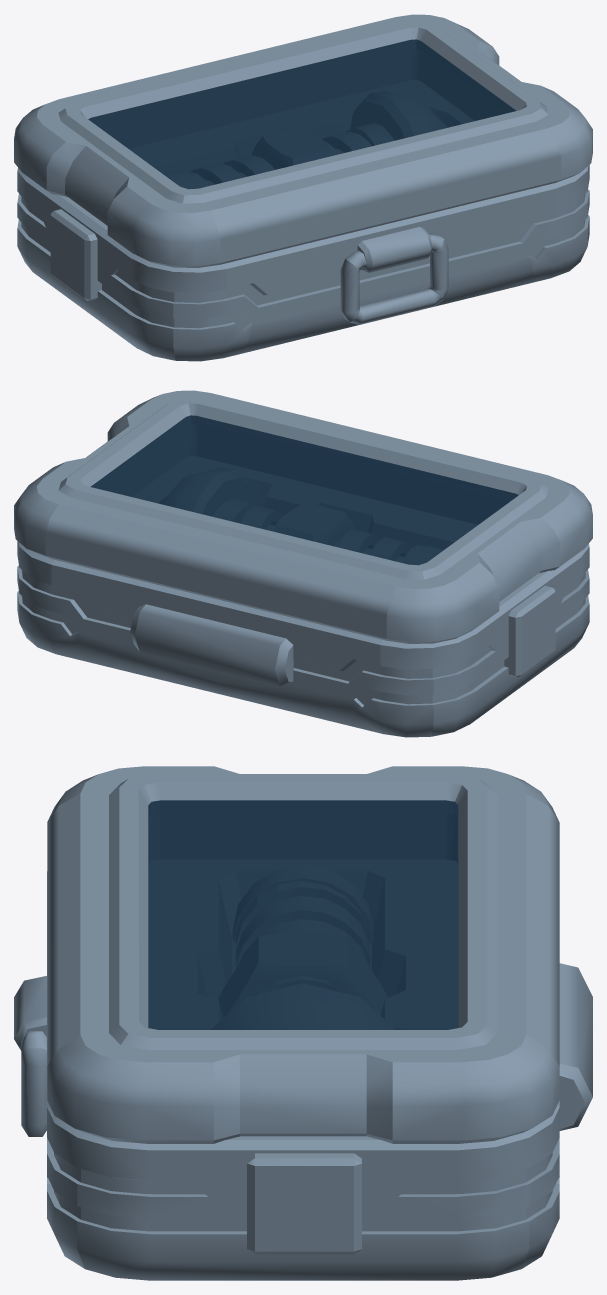
File: obj_consumable_multicomponentkit.fbx
3 renders of one model, top to bottom at view 1: azimuth 30°, elevation 25°; view 2: azimuth 150°, elevation 25°; view 3: azimuth 270°, elevation 25°, orthographic. The views are drawn at different scales.
Parts seen in each view (by area): view 1: obj_consumable_multicomponentkit, glass_geo; view 2: obj_consumable_multicomponentkit, glass_geo; view 3: obj_consumable_multicomponentkit, glass_geo.
Part boxes in pixels (box(x1,y1,x2,y2)): obj_consumable_multicomponentkit: box(14, 14, 592, 361); glass_geo: box(88, 39, 516, 189); obj_consumable_multicomponentkit: box(14, 390, 592, 737); glass_geo: box(90, 415, 518, 565); obj_consumable_multicomponentkit: box(14, 766, 592, 1280); glass_geo: box(148, 800, 458, 1029).
Size of the model in its own units: 3.11 by 0.9807 by 2.26.
